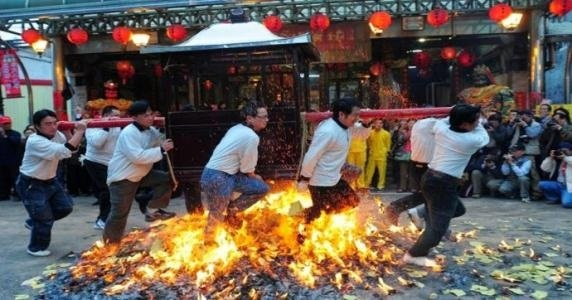fire: (80, 175, 411, 290)
